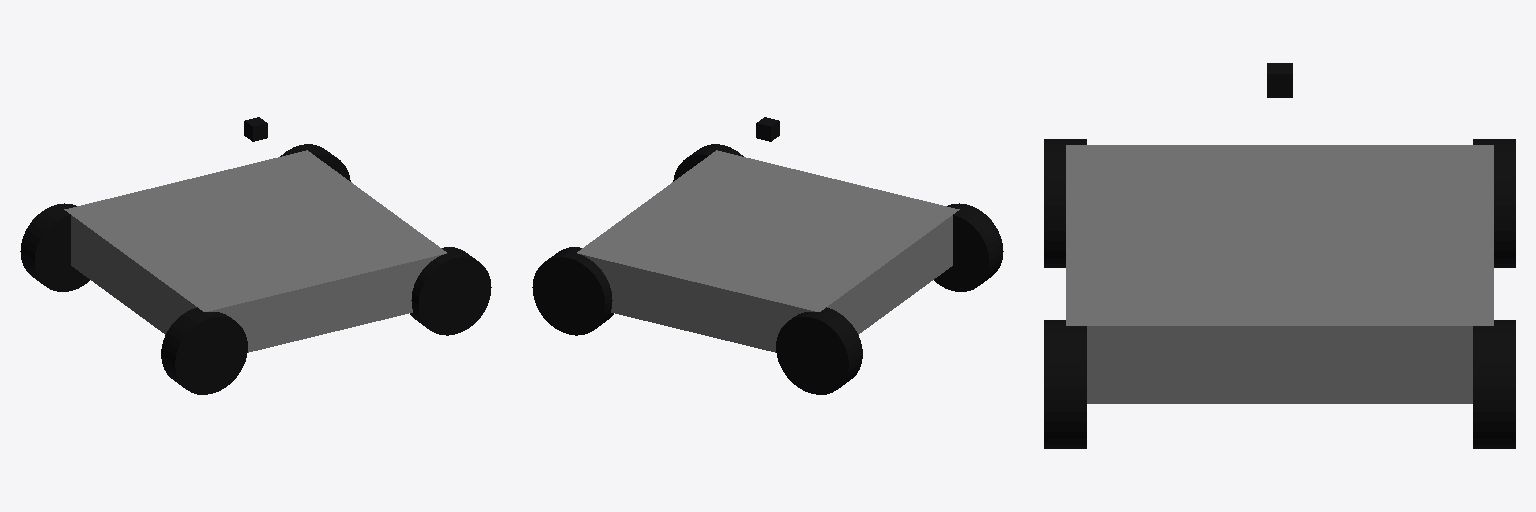
robot.urdf — omni_bot:
<?xml version="1.0"?>
<robot name="omni_bot">

  <!-- Material Definitions -->
  <material name="gray">
    <color rgba="0.5 0.5 0.5 1"/>
  </material>
  <material name="black">
    <color rgba="0.1 0.1 0.1 1"/>
  </material>

  <!-- Base Link -->
  <link name="base_footprint">
    <inertial>
      <origin xyz="0 0 0" rpy="0 0 0"/>
      <mass value="2.0"/>
      <inertia ixx="0.052" ixy="0.0" ixz="0.0" iyy="0.052" iyz="0.0" izz="0.01"/>
    </inertial>
    <visual>
      <origin xyz="0 0 0.05" rpy="0 0 0"/>
      <geometry>
        <box size="0.5 0.5 0.1"/>
      </geometry>
      <material name="gray"/>
    </visual>
    <collision>
      <origin xyz="0 0 0.05" rpy="0 0 0"/>
      <geometry>
        <box size="0.5 0.5 0.1"/>
      </geometry>
    </collision>
  </link>

  <!-- Wheel Links (with correct orientation) -->
  <link name="wheel_front_left">
    <inertial>
      <origin xyz="0 0 0" rpy="1.5708 0 0"/>
      <mass value="0.1"/>
      <inertia ixx="0.0001" ixy="0.0" ixz="0.0" iyy="0.0001" iyz="0.0" izz="0.0005"/>
    </inertial>
    <visual>
      <origin xyz="0 0 0" rpy="1.5708 0 0"/>
      <geometry>
        <cylinder length="0.05" radius="0.075"/>
      </geometry>
      <material name="black"/>
    </visual>
    <collision>
      <origin xyz="0 0 0" rpy="1.5708 0 0"/>
      <geometry>
        <cylinder length="0.05" radius="0.075"/>
      </geometry>
      <surface>
  <friction>
    <ode>
      <mu>3.0</mu>         <!-- friction in primary direction -->
      <mu2>3.0</mu2>       <!-- friction in orthogonal direction -->
    </ode>
  </friction>
</surface>
    </collision>
  </link>

  <link name="wheel_front_right">
    <inertial>
      <origin xyz="0 0 0" rpy="1.5708 0 0"/>
      <mass value="0.1"/>
      <inertia ixx="0.0001" ixy="0.0" ixz="0.0" iyy="0.0001" iyz="0.0" izz="0.0005"/>
    </inertial>
    <visual>
      <origin xyz="0 0 0" rpy="1.5708 0 0"/>
      <geometry>
        <cylinder length="0.05" radius="0.075"/>
      </geometry>
      <material name="black"/>
    </visual>
    <collision>
      <origin xyz="0 0 0" rpy="1.5708 0 0"/>
      <geometry>
        <cylinder length="0.05" radius="0.075"/>
      </geometry>
      <surface>
  <friction>
    <ode>
      <mu>3.0</mu>         <!-- friction in primary direction -->
      <mu2>3.0</mu2>       <!-- friction in orthogonal direction -->
    </ode>
  </friction>
</surface>

    </collision>
  </link>

  <link name="wheel_back_left">
    <inertial>
      <origin xyz="0 0 0" rpy="1.5708 0 0"/>
      <mass value="0.1"/>
      <inertia ixx="0.0001" ixy="0.0" ixz="0.0" iyy="0.0001" iyz="0.0" izz="0.0005"/>
    </inertial>
    <visual>
      <origin xyz="0 0 0" rpy="1.5708 0 0"/>
      <geometry>
        <cylinder length="0.05" radius="0.075"/>
      </geometry>
      <material name="black"/>
    </visual>
    <collision>
      <origin xyz="0 0 0" rpy="1.5708 0 0"/>
      <geometry>
        <cylinder length="0.05" radius="0.075"/>
      </geometry>
      <surface>
  <friction>
    <ode>
      <mu>3.0</mu>         <!-- friction in primary direction -->
      <mu2>3.0</mu2>       <!-- friction in orthogonal direction -->
    </ode>
  </friction>
</surface>
    </collision>
  </link>

  <link name="wheel_back_right">
    <inertial>
      <origin xyz="0 0 0" rpy="1.5708 0 0"/>
      <mass value="0.1"/>
      <inertia ixx="0.0001" ixy="0.0" ixz="0.0" iyy="0.0001" iyz="0.0" izz="0.0005"/>
    </inertial>
    <visual>
      <origin xyz="0 0 0" rpy="1.5708 0 0"/>
      <geometry>
        <cylinder length="0.05" radius="0.075"/>	
      </geometry>
      <material name="black"/>
    </visual>
    <collision>
      <origin xyz="0 0 0" rpy="1.5708 0 0"/>
      <geometry>
        <cylinder length="0.05" radius="0.075"/>
      </geometry>
            <surface>
  <friction>
    <ode>
      <mu>3.0</mu>         <!-- friction in primary direction -->
      <mu2>3.0</mu2>       <!-- friction in orthogonal direction -->
    </ode>
  </friction>
</surface>
    </collision>
  </link>

  <!-- Joints -->
  <joint name="wheel_front_left_joint" type="continuous">
    <parent link="base_footprint"/>
    <child link="wheel_front_left"/>
    <origin xyz="0.25 0.25 0.025" rpy="0 0 0"/>
    <axis xyz="0 1 0"/>
  </joint>
  <joint name="wheel_front_right_joint" type="continuous">
    <parent link="base_footprint"/>
    <child link="wheel_front_right"/>	
    <origin xyz="0.25 -0.25 0.025" rpy="0 0 0"/>
    <axis xyz="0 1 0"/>
  </joint>
  <joint name="wheel_back_left_joint" type="continuous">
    <parent link="base_footprint"/>
    <child link="wheel_back_left"/>
    <origin xyz="-0.25 0.25 0.025" rpy="0 0 0"/>
    <axis xyz="0 1 0"/>
  </joint>
  <joint name="wheel_back_right_joint" type="continuous">
    <parent link="base_footprint"/>
    <child link="wheel_back_right"/>
    <origin xyz="-0.25 -0.25 0.025" rpy="0 0 0"/>
    <axis xyz="0 1 0"/>
  </joint>

  <!-- Gazebo Plugin for Omnidirectional Drive -->
  <gazebo>
    <plugin name="rosa_controller" filename="libgazebo_ros_omni_drive.so">
      <ros>
        <namespace>/omni_bot</namespace>
        <remapping>cmd_vel:=/omni_bot/cmd_vel</remapping>
        <remapping>odom:=/omni_bot/odom</remapping>
      </ros>
      <commandTopic>/omni_bot/cmd_vel</commandTopic>
      <odometryTopic>/omni_bot/odom</odometryTopic>
      <odometryFrame>odom</odometryFrame>
      <odometryRate>20.0</odometryRate>
      <robotBaseFrame>base_footprint</robotBaseFrame>
      <wheel_radius>0.075</wheel_radius>
      <base_length>0.5</base_length>
      <base_width>0.5</base_width>
      <front_left_joint>wheel_front_left_joint</front_left_joint>
      <front_right_joint>wheel_front_right_joint</front_right_joint>
      <rear_left_joint>wheel_back_left_joint</rear_left_joint>
      <rear_right_joint>wheel_back_right_joint</rear_right_joint>
      <wheel_max_speed>20.0</wheel_max_speed>
      <wheel_acceleration>10.0</wheel_acceleration>
      <joint_config>1 1 1 1</joint_config>
    </plugin>
  </gazebo>


  <!-- CAMERA JOINT -->
  <joint name="camera_joint" type="fixed">
    <parent link="base_footprint"/>
    <child link="camera_link"/>
    <origin xyz="0 0 0.3" rpy="0 0 0"/>
  </joint>

  <!-- CAMERA LINK -->
  <link name="camera_link">
    <visual>
      <geometry>
        <box size="0.03 0.03 0.03"/>
      </geometry>
      <material name="black"/>
    </visual>
    <inertial>
      <mass value="0.1"/>
      <inertia ixx="0.0001" ixy="0.0" ixz="0.0" iyy="0.0001" iyz="0.0" izz="0.0001"/>
      <origin xyz="0 0 0" rpy="0 0 0"/>
    </inertial>
  </link>

  <!-- CAMERA OPTICAL LINK -->
  <joint name="camera_optical_joint" type="fixed">
    <parent link="camera_link"/>
    <child link="camera_link_optical"/>
    <origin xyz="0 0 0" rpy="-1.5708 0 -1.5708"/>

  </joint>

  <link name="camera_link_optical"></link>

  <!-- GAZEBO CAMERA PLUGIN -->
  <gazebo reference="camera_link">
    <material>Gazebo/Black</material>
    <sensor name="camera" type="camera">
      <pose>0 0 0 0 0 0</pose>
      <visualize>true</visualize>
      <update_rate>15.0</update_rate>
      <camera>
        <horizontal_fov>1.047</horizontal_fov>
        <image>
          <width>640</width>
          <height>480</height>
          <format>R8G8B8</format>
        </image>
        <clip>
          <near>0.05</near>
          <far>10.0</far>
        </clip>
      </camera>
      <plugin name="camera_controller" filename="libgazebo_ros_camera.so">
        <frame_name>camera_link_optical</frame_name>
      </plugin>
    </sensor>
  </gazebo>
  
<gazebo>
  <plugin name="joint_state_publisher" filename="libgazebo_ros_joint_state_publisher.so">
    <update_rate>50.0</update_rate>
  </plugin>
</gazebo>

</robot>

--- Facts derived from the render (not from the file) ---
3 views of the same robot in one strip: view 1: azimuth 30°, elevation 25°; view 2: azimuth 150°, elevation 25°; view 3: azimuth 270°, elevation 25° (orthographic).
Robot: omni_bot — 7 links, 6 joints (4 continuous, 2 fixed); root link base_footprint; default pose: all joints at 0.
Visible links, largest first — view 1: base_footprint, wheel_back_right, wheel_front_right, wheel_back_left, wheel_front_left; view 2: base_footprint, wheel_back_left, wheel_front_left, wheel_back_right, wheel_front_right; view 3: base_footprint, wheel_front_left, wheel_front_right, wheel_back_left, wheel_back_right, camera_link.
Boxes of the visible links, left/top/right/bottom form: base_footprint: left=64, top=150, right=446, bottom=352; wheel_back_right: left=161, top=307, right=247, bottom=394; wheel_front_right: left=410, top=247, right=491, bottom=335; wheel_back_left: left=20, top=203, right=89, bottom=291; wheel_front_left: left=280, top=144, right=350, bottom=181; base_footprint: left=577, top=150, right=959, bottom=352; wheel_back_left: left=776, top=307, right=862, bottom=394; wheel_front_left: left=532, top=247, right=613, bottom=335; wheel_back_right: left=934, top=203, right=1003, bottom=291; wheel_front_right: left=673, top=144, right=743, bottom=181; base_footprint: left=1066, top=145, right=1493, bottom=403; wheel_front_left: left=1473, top=320, right=1515, bottom=448; wheel_front_right: left=1044, top=320, right=1086, bottom=448; wheel_back_left: left=1473, top=139, right=1515, bottom=267; wheel_back_right: left=1044, top=139, right=1086, bottom=267; camera_link: left=1267, top=63, right=1292, bottom=97.
Bounding box of the posed robot: 0.65 × 0.55 × 0.365 m (x, y, z).
Geometry: primitives only (box / cylinder / sphere), no mesh files.
